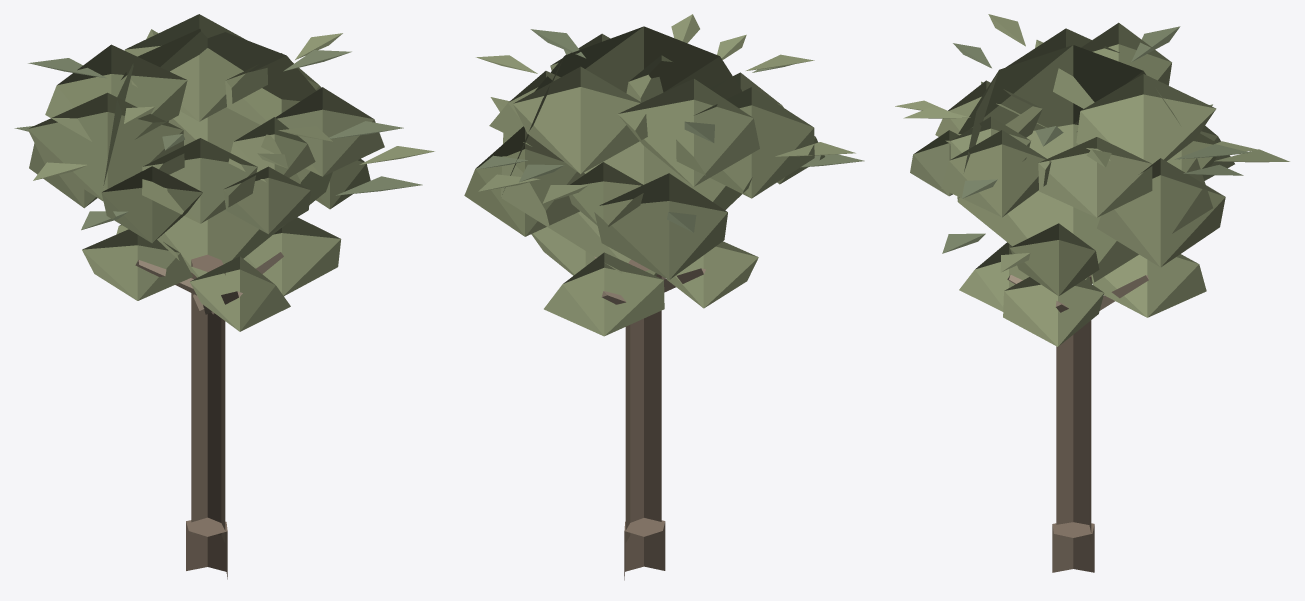
The model's file is shu.longnao__winter.glb.
3 renders of one model, left to right at view 1: azimuth 30°, elevation 25°; view 2: azimuth 150°, elevation 25°; view 3: azimuth 270°, elevation 25°, orthographic. The views are drawn at different scales.
Visible parts, largest first — view 1: shu.longnao__winter; view 2: shu.longnao__winter; view 3: shu.longnao__winter.
Part boxes in pixels (x1,y1,x2,y2): shu.longnao__winter: (14,14,434,579); shu.longnao__winter: (464,14,864,580); shu.longnao__winter: (895,14,1289,572).
Bounding box in the file's own units: 21.86 × 29.23 × 19.99.
